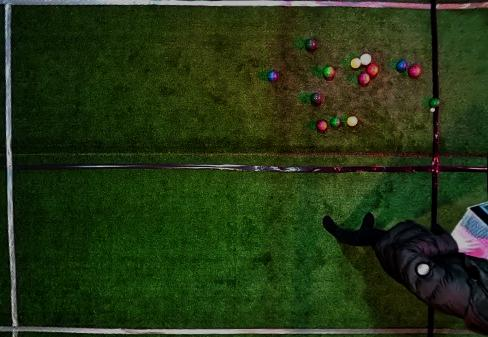blue: (268, 71, 278, 82), (396, 61, 406, 72)
green: (305, 39, 316, 50), (323, 67, 334, 77), (428, 98, 440, 107), (311, 94, 321, 104), (330, 118, 340, 127)
red: (408, 64, 421, 77), (366, 64, 378, 76), (360, 53, 372, 65), (358, 73, 370, 84), (317, 120, 327, 131)
vline: (0, 1, 20, 336), (431, 111, 487, 224), (430, 1, 487, 97), (427, 308, 488, 336)
white: (430, 108, 435, 112)
yellow: (347, 116, 358, 127), (351, 58, 360, 69)
